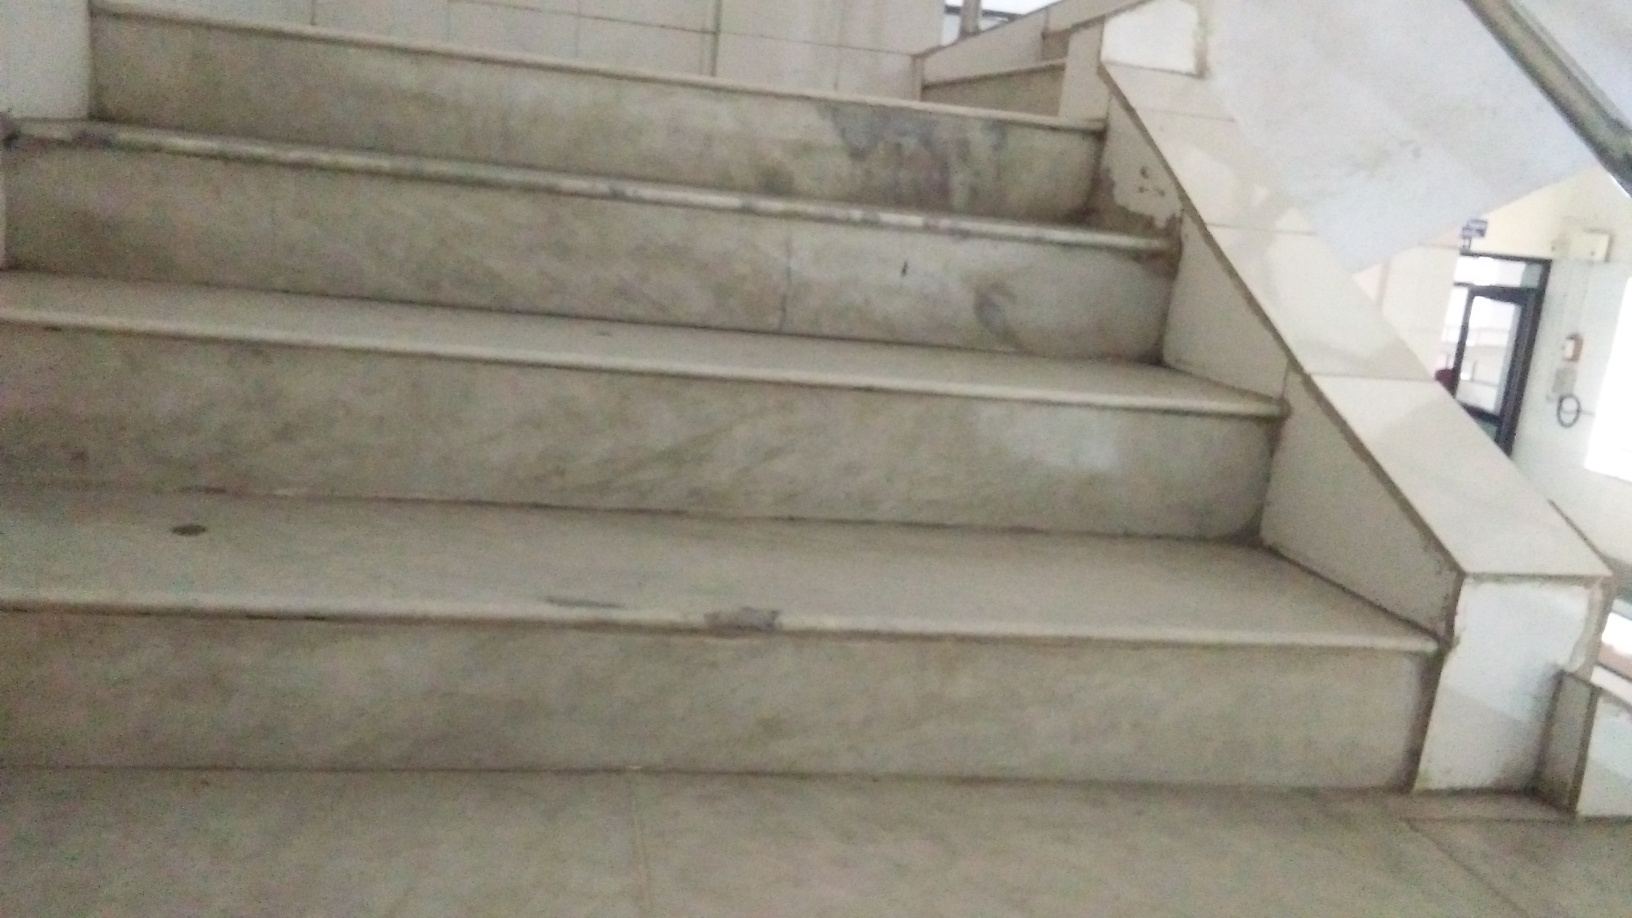stairs_up: (4, 10, 1526, 832)
